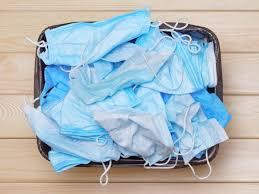Mask: (39, 9, 149, 65), (70, 49, 170, 103), (24, 105, 119, 161), (136, 27, 215, 93), (94, 110, 172, 164), (166, 94, 227, 163), (59, 88, 139, 140), (182, 119, 227, 163), (191, 89, 230, 127), (40, 65, 68, 105), (134, 86, 165, 117), (48, 150, 90, 171), (102, 42, 141, 62), (89, 60, 112, 82)
